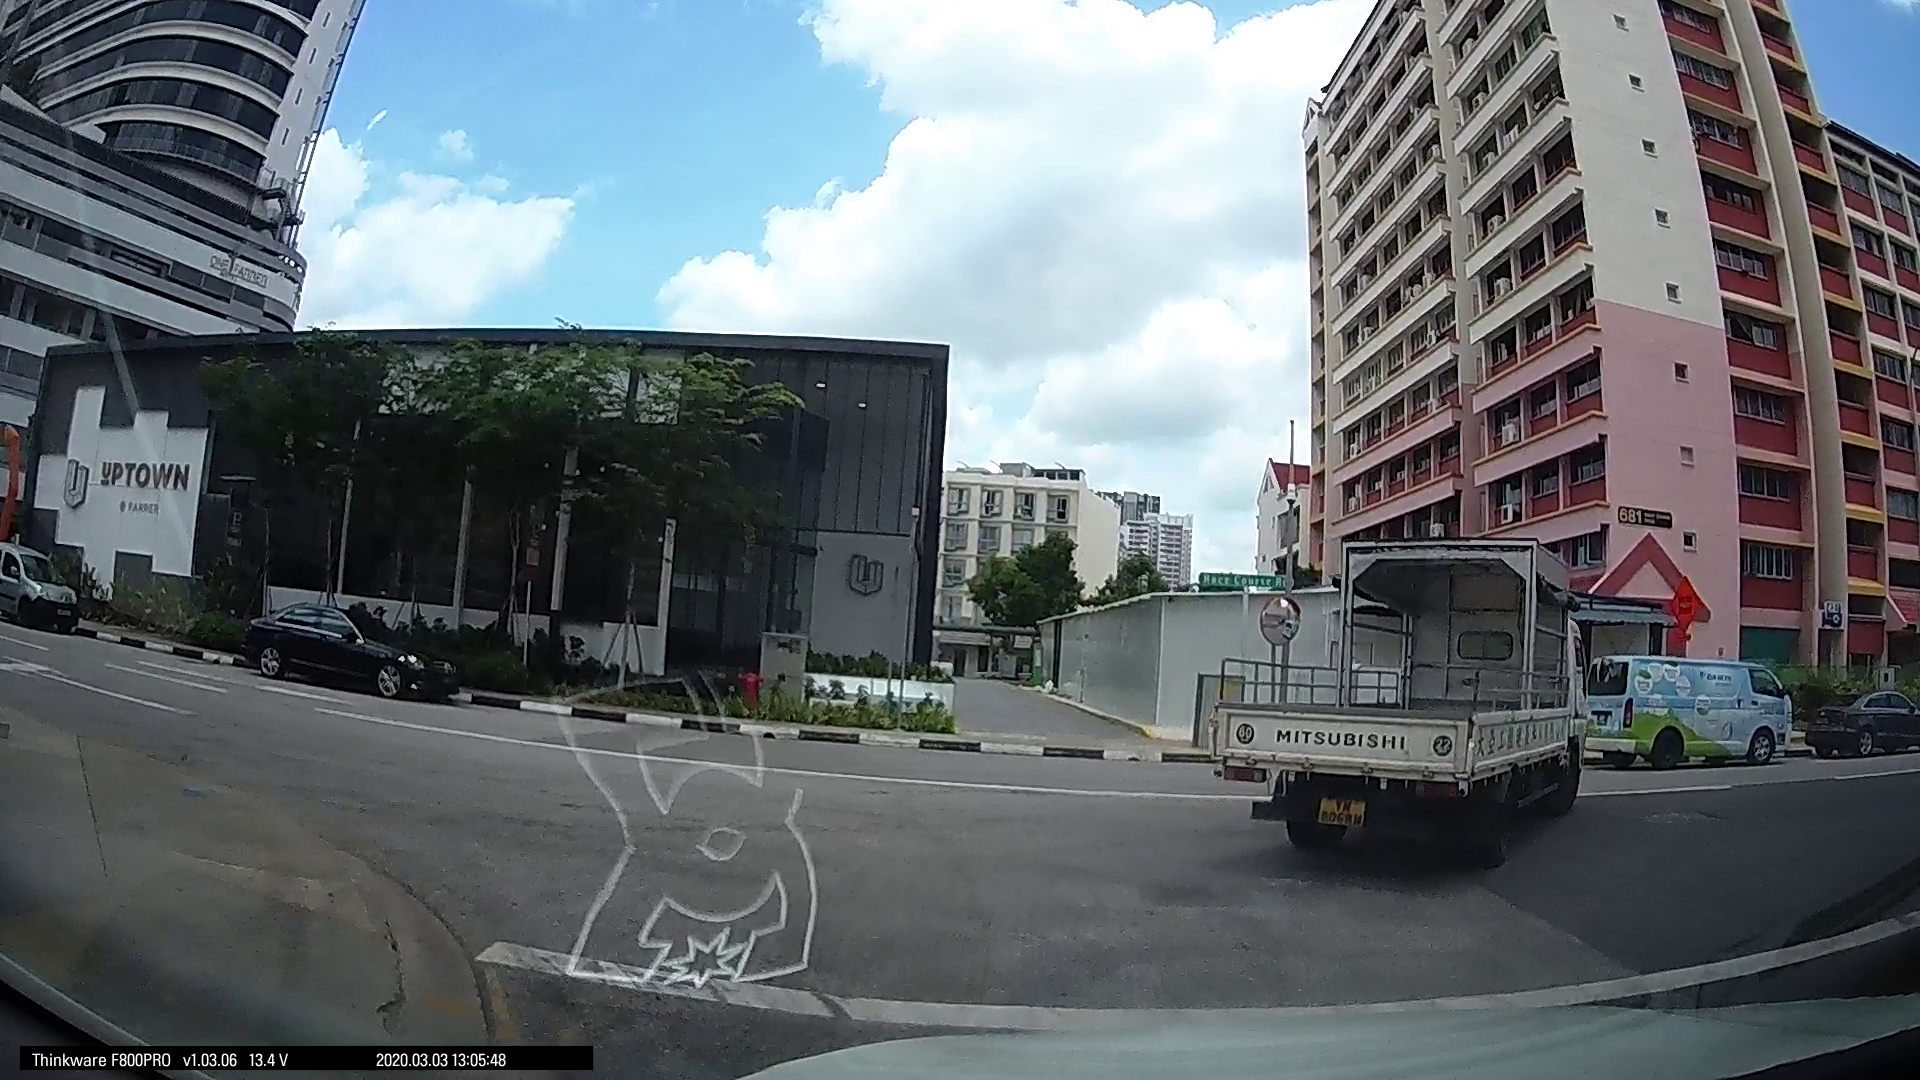Heavy Vehicle: (7, 313, 729, 967), (945, 603, 1030, 694)
Light Vehicle: (1705, 678, 1912, 853), (1296, 676, 1382, 735), (914, 637, 986, 699)
